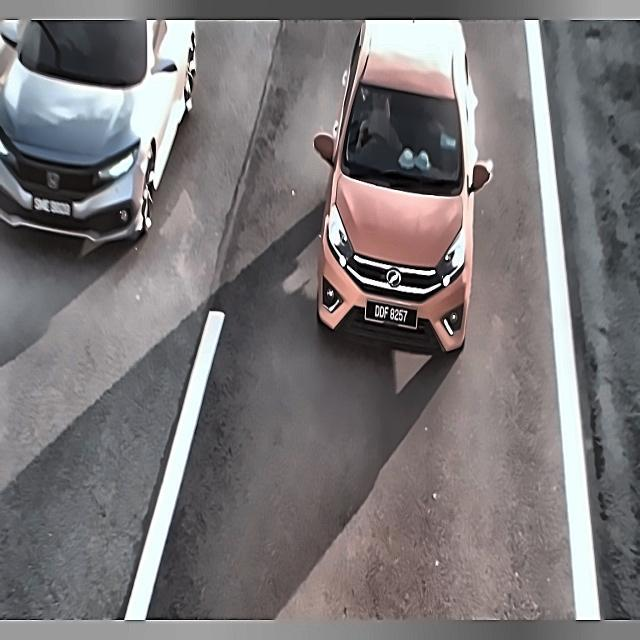car: (364, 294, 415, 336), (31, 191, 74, 224)
